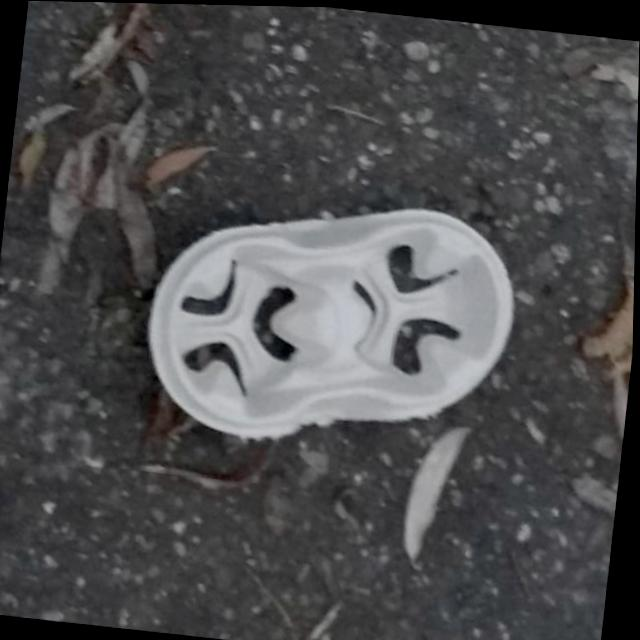Paper: (135, 173, 529, 464)
